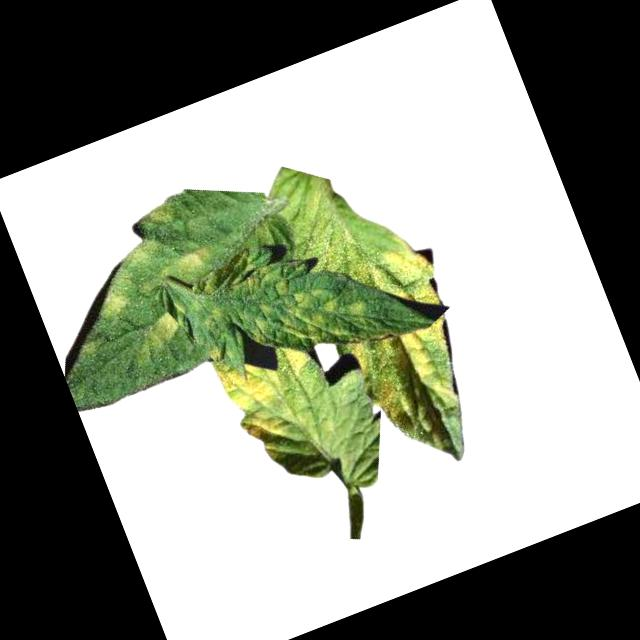Leaf_Mold: (226, 240, 382, 387), (206, 329, 339, 471), (346, 315, 476, 443), (356, 227, 449, 331), (132, 306, 186, 358), (160, 241, 214, 286), (87, 282, 134, 325), (136, 200, 179, 239)
